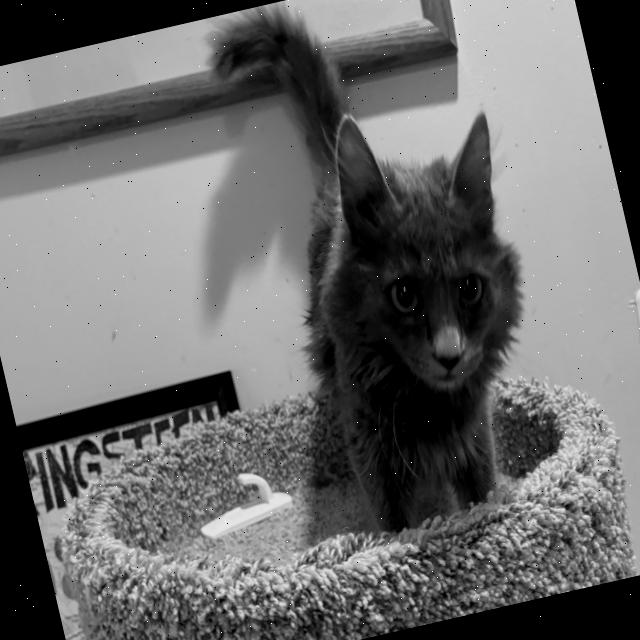persian_cat: (284, 75, 564, 434)
